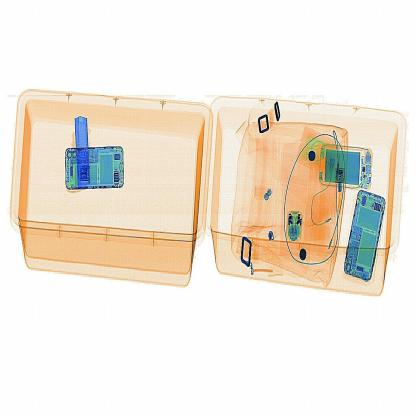pliers: (74, 114, 96, 195)
